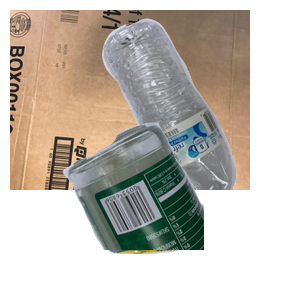cardboard: (10, 10, 250, 190)
glass: (60, 120, 300, 300)
plastic: (100, 16, 300, 196)
trash: (105, 152, 280, 300)
